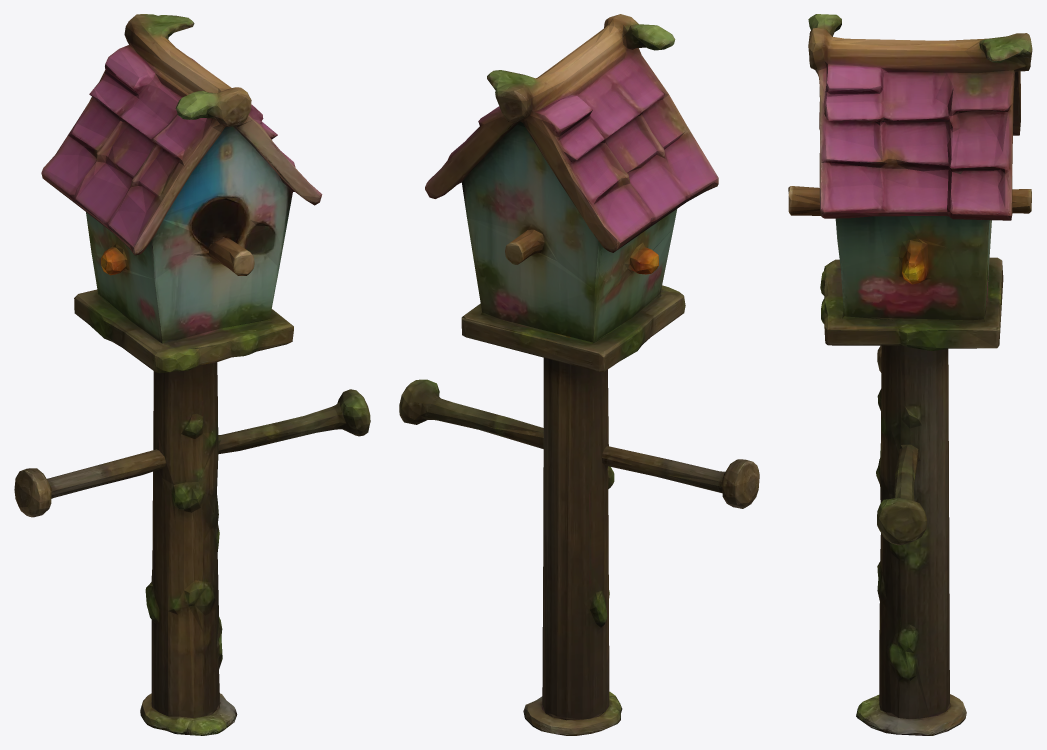
3 views of the same model, side by side, from view 1: azimuth 30°, elevation 25°; view 2: azimuth 150°, elevation 25°; view 3: azimuth 270°, elevation 25° (orthographic). The views are drawn at different scales.
Parts seen in each view (by area): view 1: world; view 2: world; view 3: world.
Part boxes in pixels (<box>): world: <box>14,14,370,735</box>; world: <box>399,14,759,735</box>; world: <box>788,14,1032,735</box>.
Size of the model in its own units: 0.544 by 1 by 0.3238.
1 material, 1 textured.
